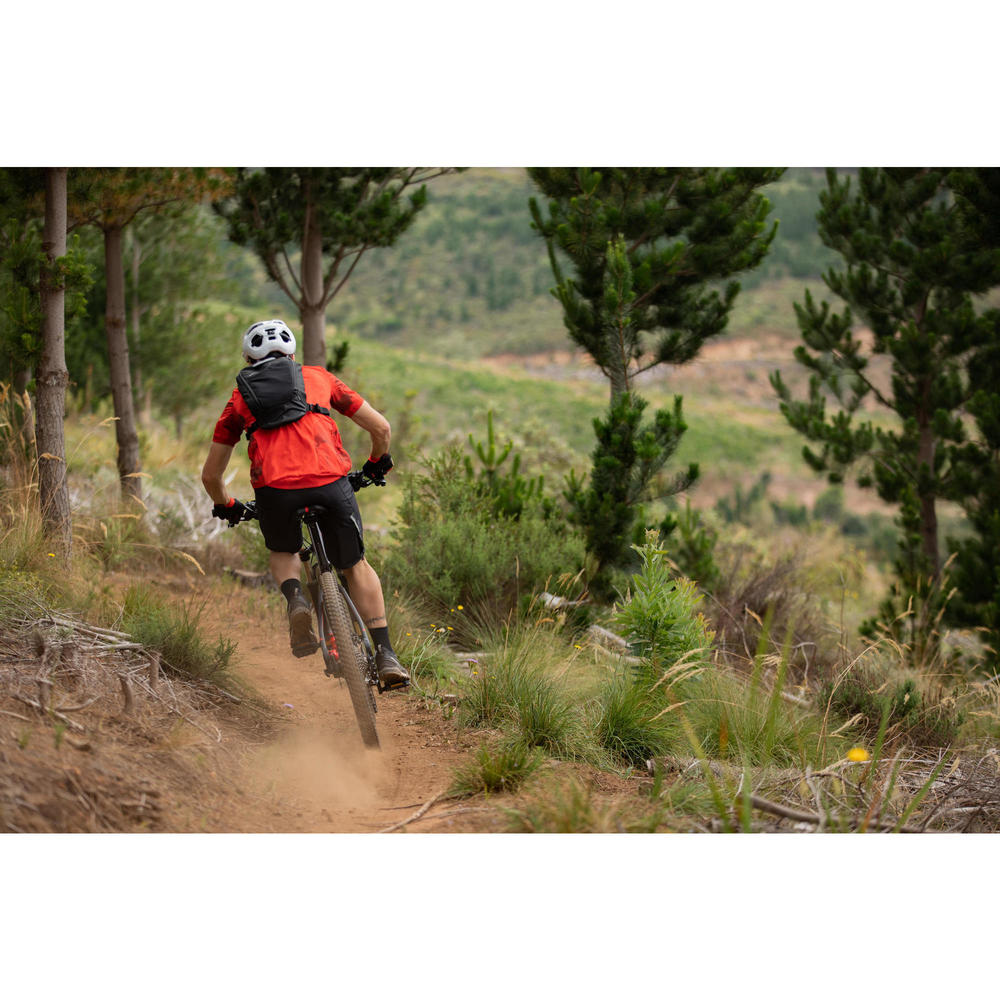MountainBike: (175, 433, 406, 756)
